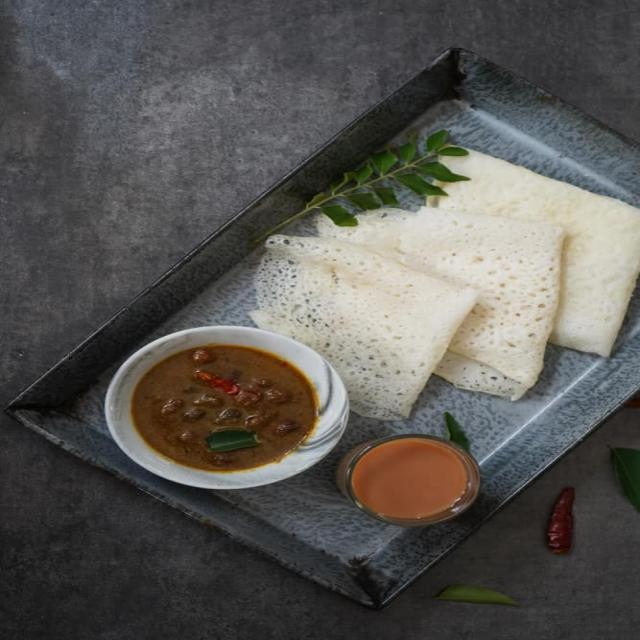DOSA: (259, 254, 467, 420)
